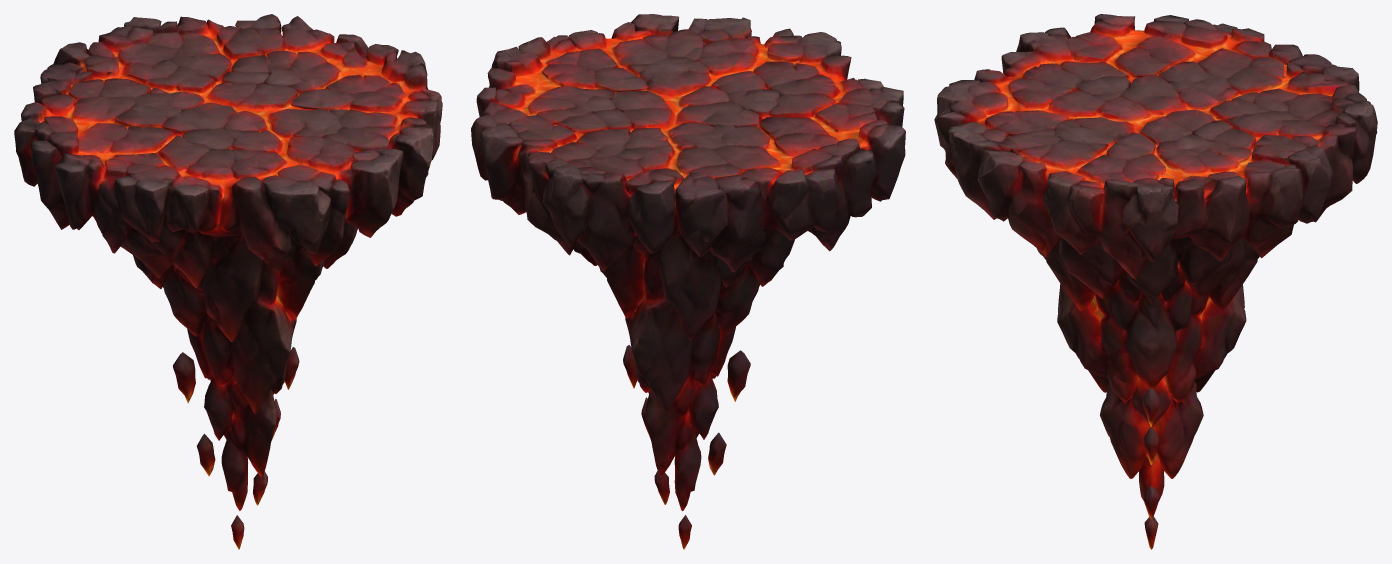
File: R3_Island_SteppingStone.fbx
3 renders of one model, left to right at view 1: azimuth 30°, elevation 25°; view 2: azimuth 150°, elevation 25°; view 3: azimuth 270°, elevation 25°, orthographic.
Visible parts, largest first — view 1: R3_Island_SteppingStone; view 2: R3_Island_SteppingStone; view 3: R3_Island_SteppingStone.
Part boxes in pixels (left/top/right/bottom): R3_Island_SteppingStone: left=14, top=14, right=442, bottom=549; R3_Island_SteppingStone: left=471, top=14, right=905, bottom=549; R3_Island_SteppingStone: left=934, top=14, right=1377, bottom=549.
Bounding box in the file's own units: 340 × 380 × 340.
Materials: 1 (1 with a texture image).
